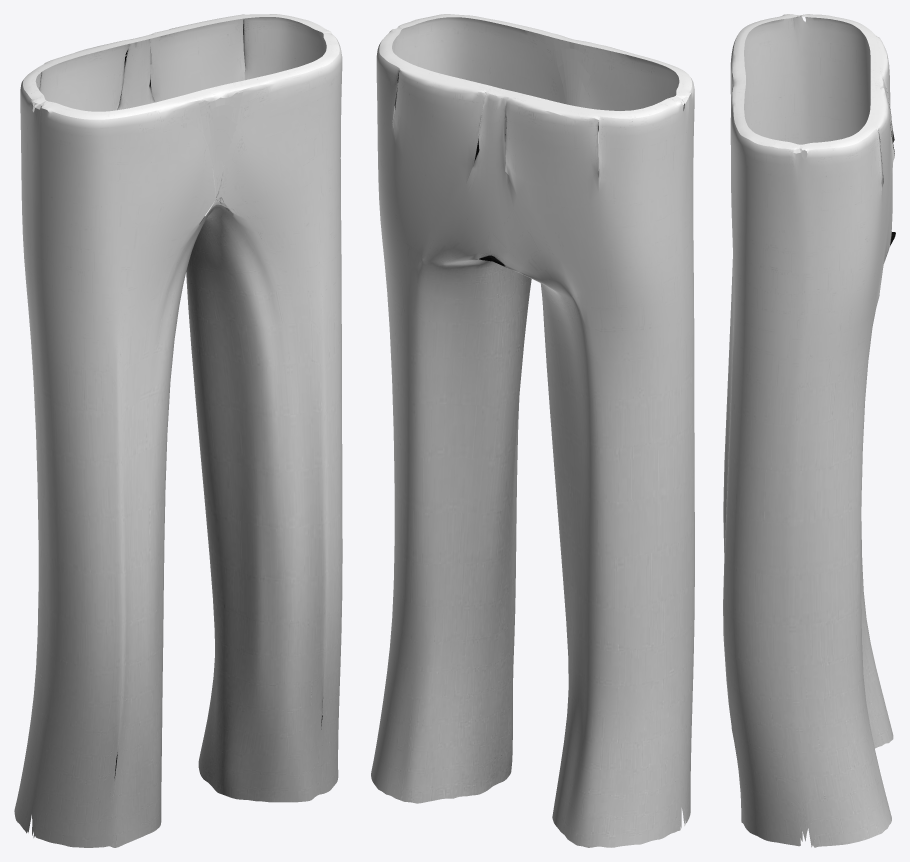
The model's file is pradapants.gltf.
3 renders of one model, left to right at view 1: azimuth 30°, elevation 25°; view 2: azimuth 150°, elevation 25°; view 3: azimuth 270°, elevation 25°, orthographic. The views are drawn at different scales.
Parts seen in each view (by area): view 1: Cylinder.001; view 2: Cylinder.001; view 3: Cylinder.001.
Boxes of the visible parts, x1=… form: Cylinder.001: x1=14, y1=14, x2=342, y2=847; Cylinder.001: x1=371, y1=14, x2=694, y2=847; Cylinder.001: x1=723, y1=14, x2=895, y2=847.
Size of what is drawn, in the model's own units: 5.25 by 12.29 by 2.75.
Materials: 1 (1 with a texture image).
